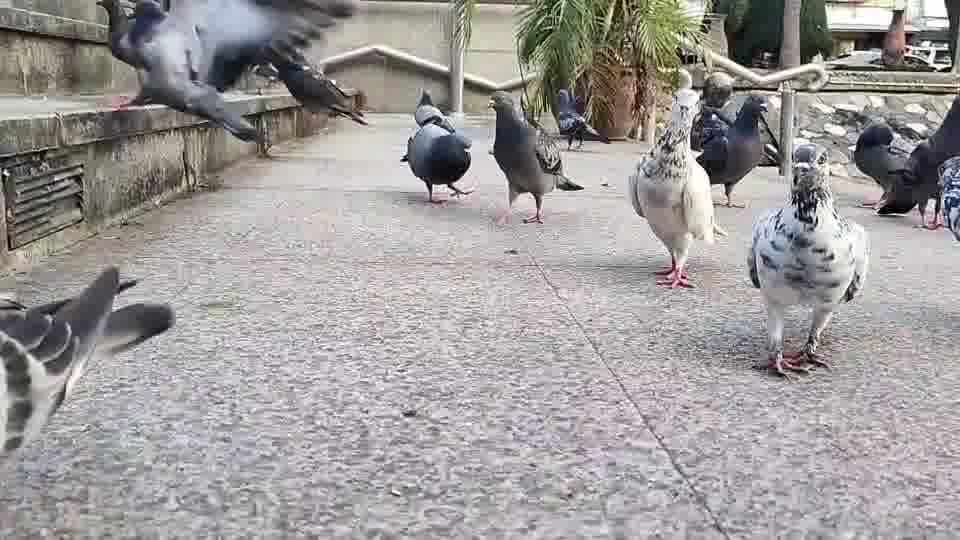Pigeon: (0, 262, 174, 460), (746, 142, 870, 380), (96, 0, 261, 143), (626, 87, 728, 289), (851, 93, 959, 230), (486, 90, 584, 225), (689, 92, 779, 208), (259, 43, 368, 125), (399, 87, 474, 203), (851, 121, 926, 216), (551, 87, 610, 150), (935, 154, 959, 243)
